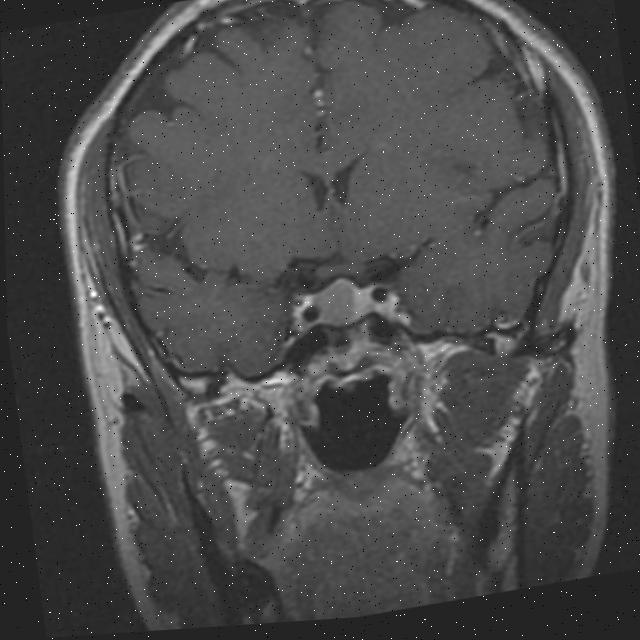Pituitary: (312, 271, 370, 332)
